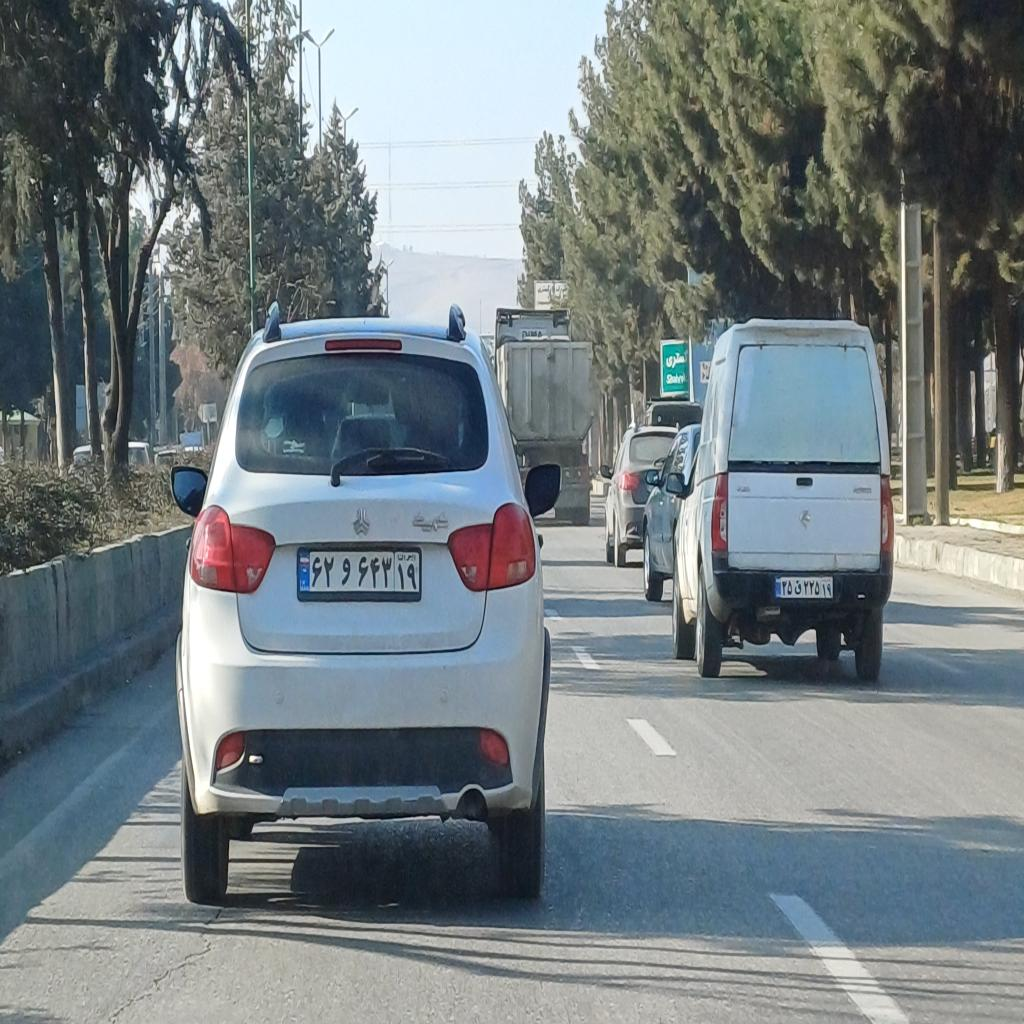Plates: (298, 544, 422, 598), (776, 574, 833, 600)
